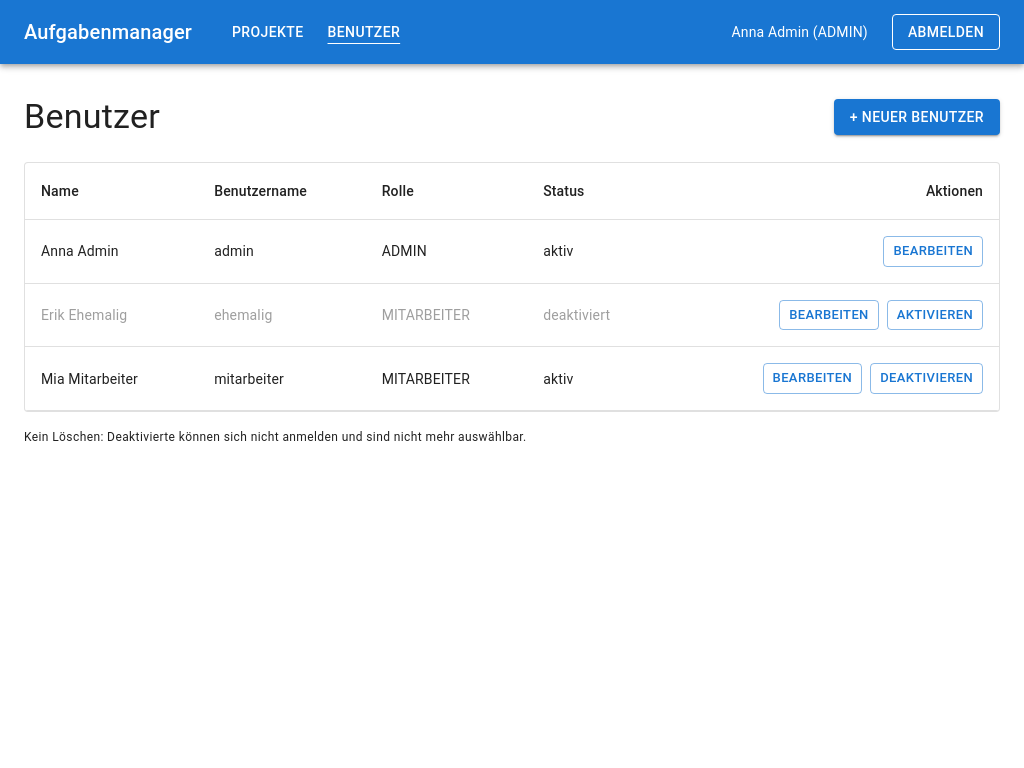
it: Benutzerverwaltung (wf_05) › legt einen Benutzer an und zeigt Feldfehler des Backends
Click the button "+ Neuer Benutzer". click: (917,117)
box: left=834, top=99, right=1000, bottom=135
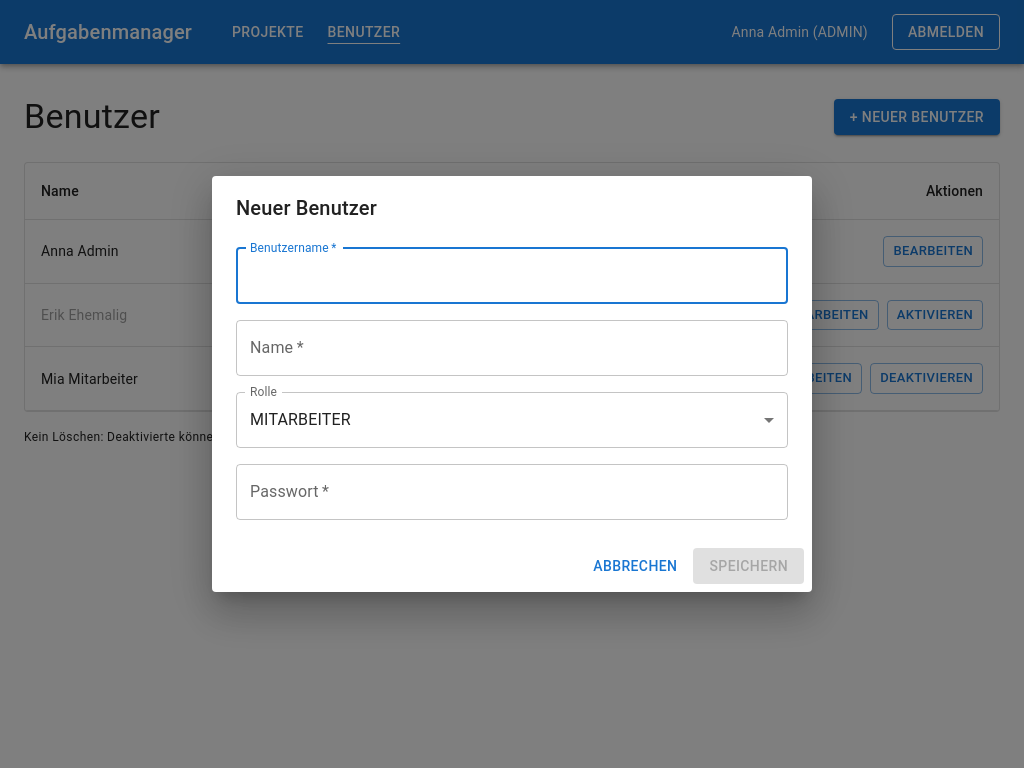
Type "neu.person" into the field labelled "Benutzername *". click: (512,276)
box: left=236, top=248, right=788, bottom=304
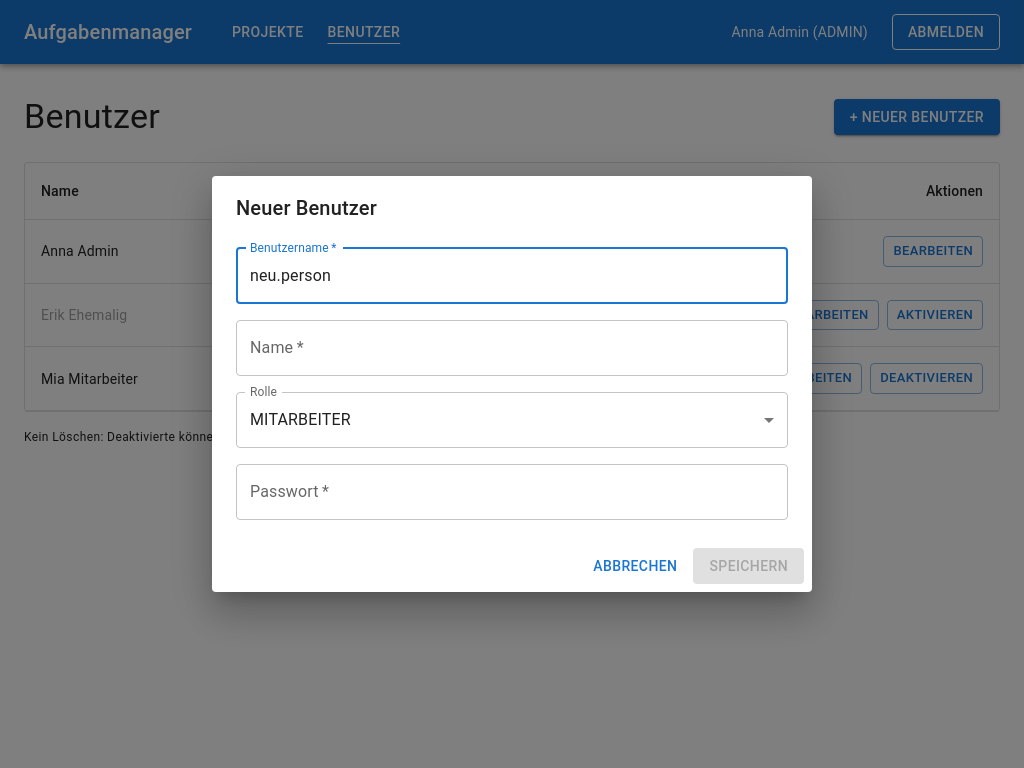
Type "Neue Person" into the field labelled "Name *". click: (512,348)
box: left=236, top=320, right=788, bottom=376
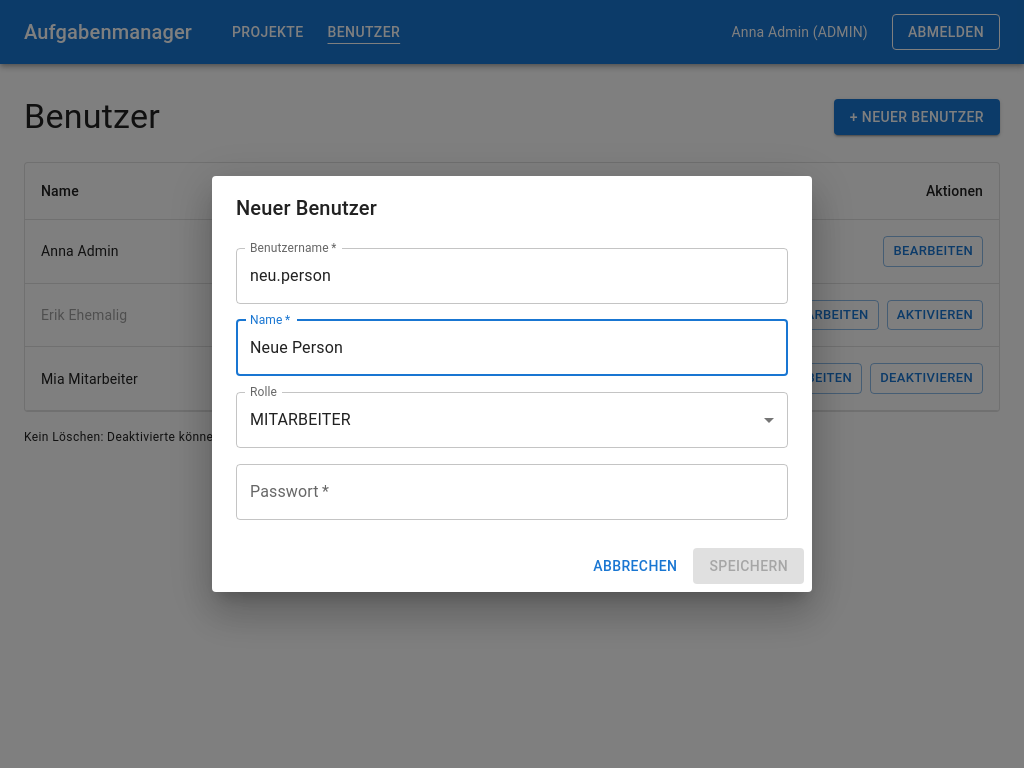
Type "kurz" into the password field labelled "Passwort *". click: (512,492)
box: left=236, top=464, right=788, bottom=520
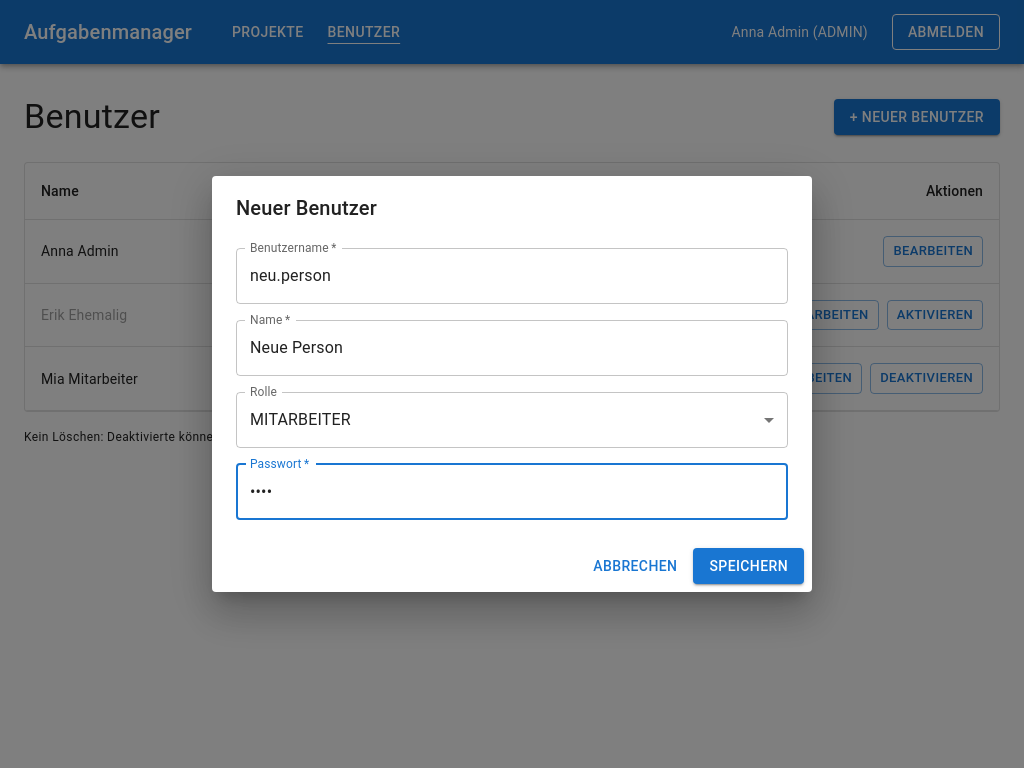
Click the button "Speichern". click: (749,566)
box: left=693, top=548, right=804, bottom=584
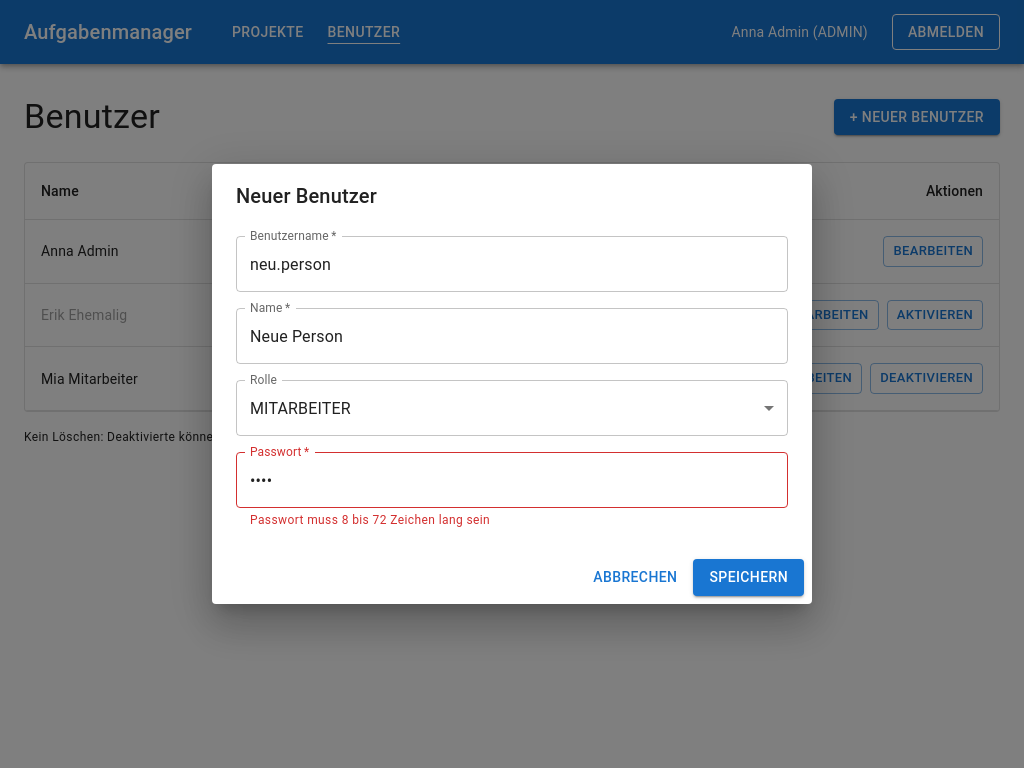
Check: the text "Passwort muss 8 bis 72 Zeichen lang sein" is shown, box left=250, top=513, right=490, bottom=527
